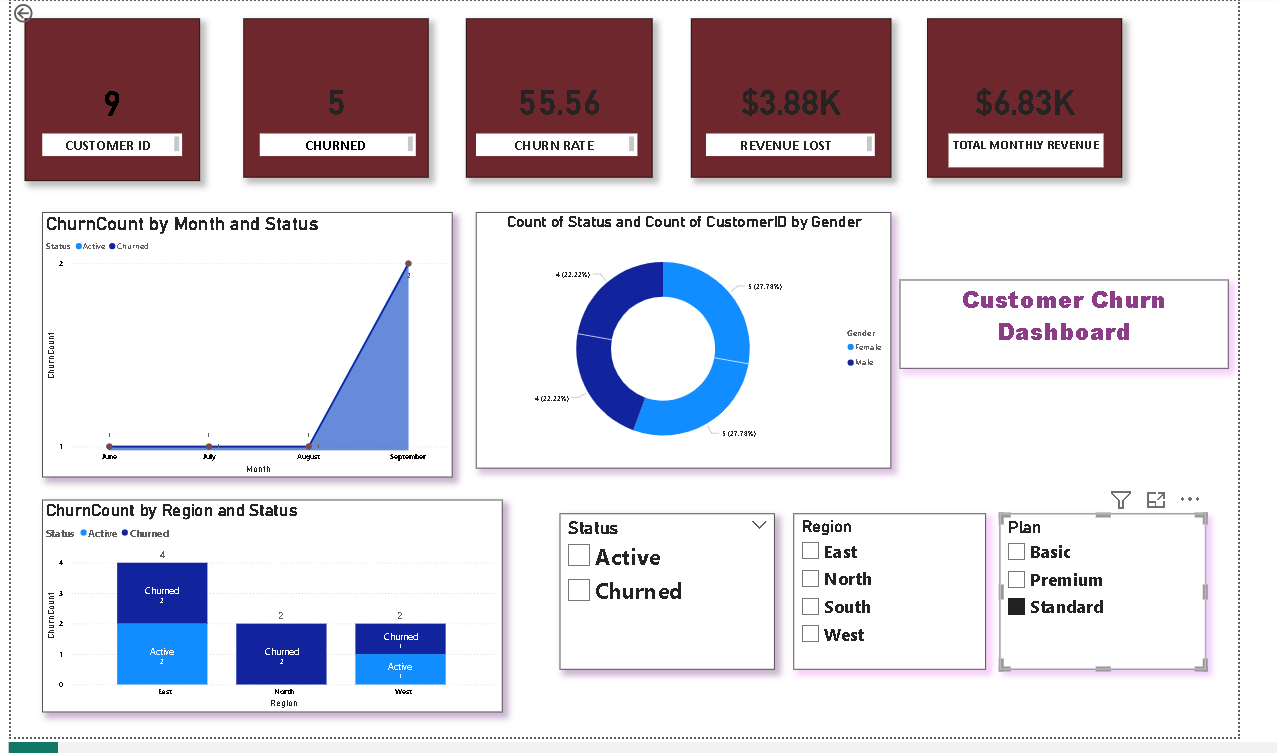

The dashboard page shown, as its layout file describes it:
{"tool":"powerbi","page":{"name":"Page 1","canvas":[2000,1200],"ordinal":0},"visuals":[{"type":"card","fields":{"Values":["Count(Sheet1.CustomerID)"]},"box":[22.4,28.5,285.3,264.9],"z":0},{"type":"card","fields":{"Values":["Count(Sheet1.CustomerID)"]},"box":[379.1,28.5,301.6,258.8],"z":1000},{"type":"actionButton","box":[0,0,100,40],"z":2000},{"type":"card","fields":{"Values":["Sheet1.ChurnRate"]},"box":[741.9,28.5,303.7,258.8],"z":3000},{"type":"card","fields":{"Values":["Sheet1.TotalMonthlyRevenue"]},"box":[1493.9,28.5,317.9,258.8],"z":4000},{"type":"card","fields":{"Values":["Sheet1.RevenueLost"]},"box":[1108.7,28.5,326.1,258.8],"z":5000},{"type":"lineChart","fields":{"Category":["Sheet1.ChurnDate.Variation.Date Hierarchy.Month"],"Y":["Sheet1.ChurnCount"],"Series":["Sheet1.Status"]},"box":[51,344.4,668.5,432.1],"z":6000},{"type":"columnChart","fields":{"Category":["Sheet1.Region"],"Y":["Sheet1.ChurnCount"],"Series":["Sheet1.Status"]},"box":[51,813.2,750,346.5],"z":7000},{"type":"donutChart","fields":{"Category":["Sheet1.Gender"],"Y":["CountNonNull(Sheet1.Status)","CountNonNull(Sheet1.CustomerID)"]},"box":[758.2,344.4,676.6,417.8],"z":8000},{"type":"slicer","fields":{"Values":["Sheet1.Plan"]},"box":[1612.1,835.6,336.3,254.8],"z":9000},{"type":"slicer","fields":{"Values":["Sheet1.Region"]},"box":[1275.8,835.6,313.9,254.8],"z":10000},{"type":"slicer","fields":{"Values":["Sheet1.Status"]},"box":[894.7,835.6,350.5,254.8],"z":11000},{"type":"textbox","box":[1449.1,454.5,536,144.7],"z":11001}]}

Visuals, with their boxes in screenshot pixels (x1, y1, x2, y2), scaled from the page's 2000x1200 canvas onto the 1277x753 screenshot:
card - Count(Sheet1.CustomerID): rect(14, 18, 196, 184)
card - Count(Sheet1.CustomerID): rect(242, 18, 435, 180)
actionButton: rect(0, 0, 64, 25)
card - Sheet1.ChurnRate: rect(474, 18, 668, 180)
card - Sheet1.TotalMonthlyRevenue: rect(954, 18, 1157, 180)
card - Sheet1.RevenueLost: rect(708, 18, 916, 180)
lineChart - Sheet1.ChurnDate.Variation.Date Hierarchy.Month x Sheet1.ChurnCount: rect(33, 216, 459, 487)
columnChart - Sheet1.Region x Sheet1.ChurnCount: rect(33, 510, 511, 728)
donutChart - Sheet1.Gender x CountNonNull(Sheet1.Status): rect(484, 216, 916, 478)
slicer - Sheet1.Plan: rect(1029, 524, 1244, 684)
slicer - Sheet1.Region: rect(815, 524, 1015, 684)
slicer - Sheet1.Status: rect(571, 524, 795, 684)
textbox: rect(925, 285, 1267, 376)
